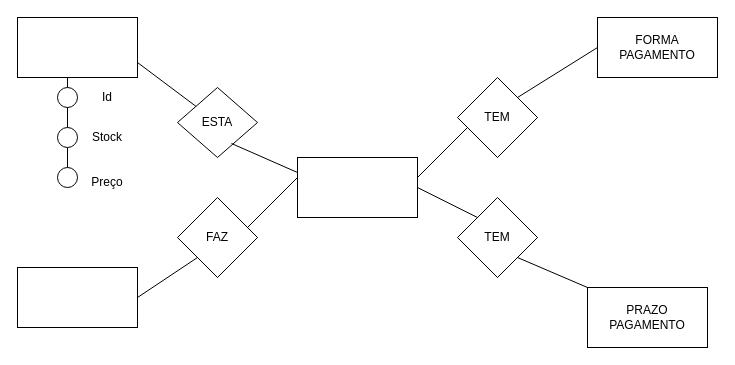
Image size: 735x365. Some labels were removed from this diagram. Each missing label, with the centre of its shape:
"CLIENTE" goes at pixel 77 297.
"COMPRA" goes at pixel 357 187.
"PRODUTO" goes at pixel 77 47.
